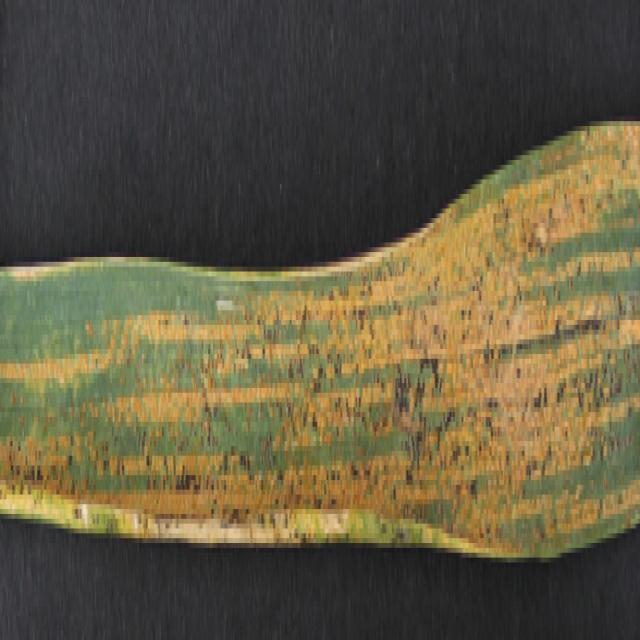leaf rust: (3, 136, 639, 548)
